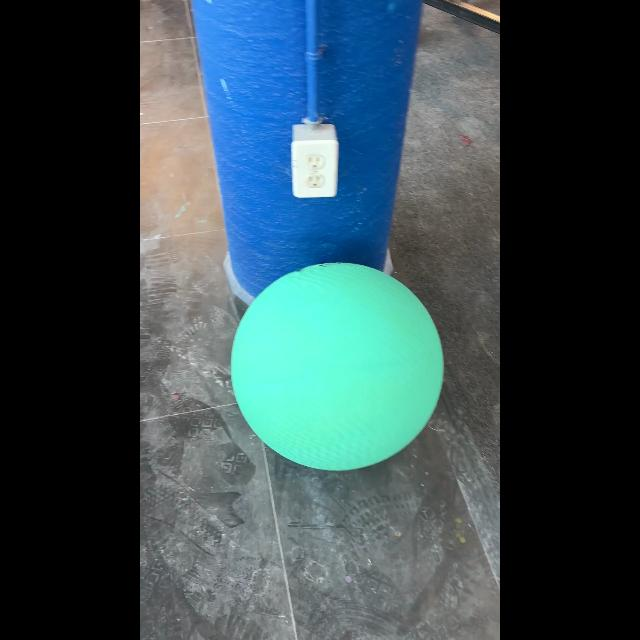ALGAE: (230, 260, 444, 472)
